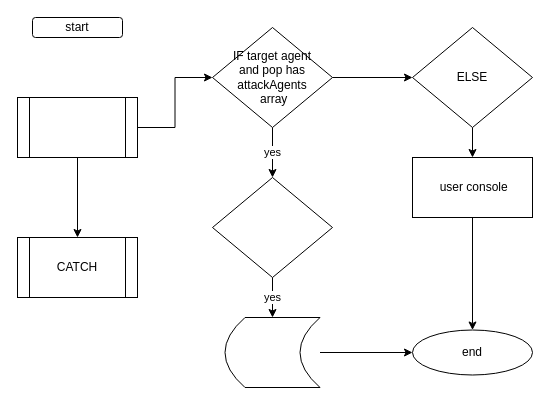
Image size: 550x405. Some labels were removed from this diagram. Each missing label, with the box of its shape:
IF target agent doesn't have the pop id into attacking list: (212, 176, 332, 278)
store the pop into target agent: (224, 316, 320, 388)
TRY: (16, 96, 138, 158)
